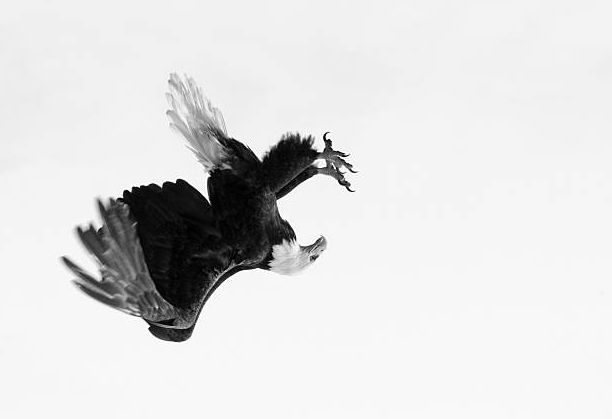Bird: (57, 68, 362, 348)
